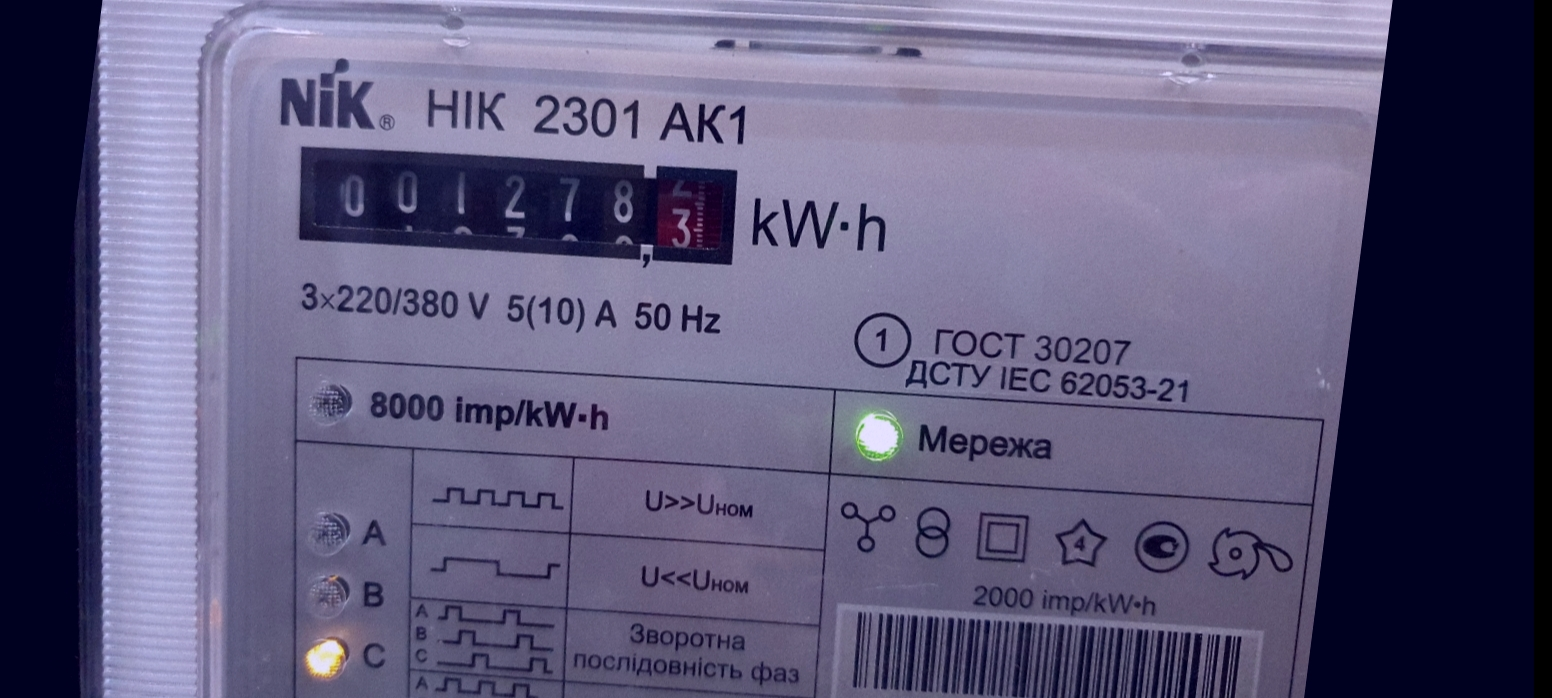0: (337, 169, 371, 221), (390, 167, 421, 216)
1: (449, 168, 472, 218)
2: (497, 171, 530, 221), (666, 177, 695, 201)
3: (664, 202, 695, 249)
7: (552, 173, 580, 224)
8: (606, 176, 638, 226)
screen: (269, 103, 760, 305)
